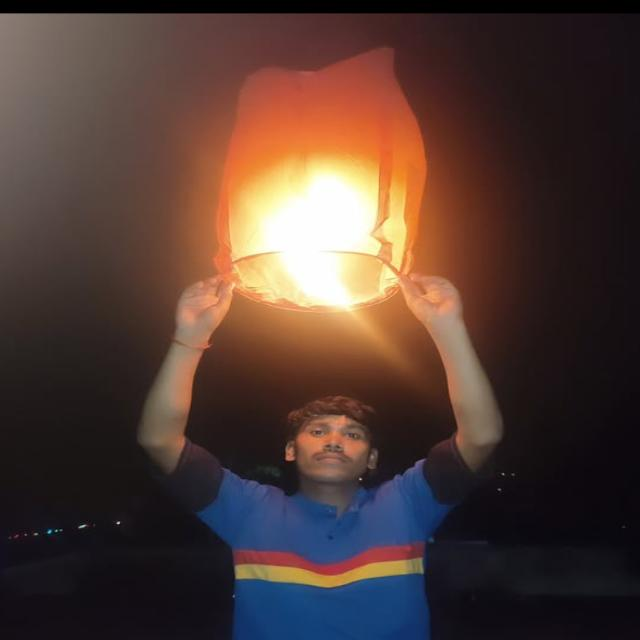fire: (223, 151, 417, 313)
